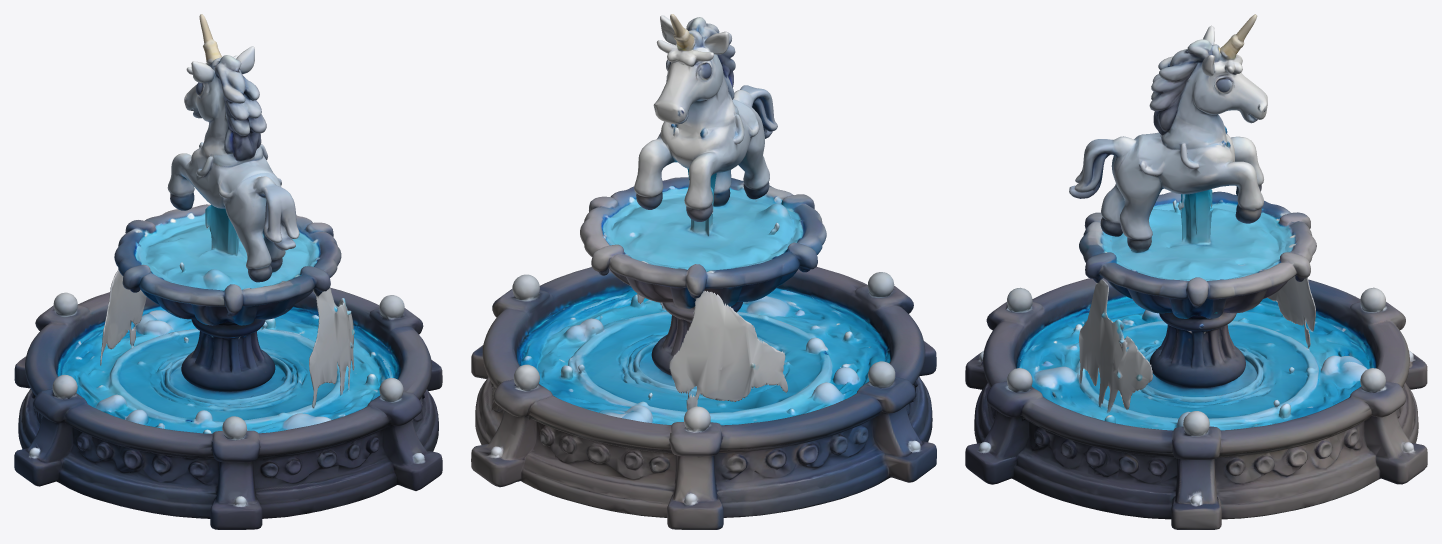
Rendered from plaza-fountain-unicorn.glb.
The picture shows the model from 3 angles, left to right: view 1: azimuth 30°, elevation 25°; view 2: azimuth 150°, elevation 25°; view 3: azimuth 270°, elevation 25°; orthographic projection. The views are drawn at different scales.
Parts seen in each view (by area): view 1: tripo_node_0f9dcf04-b8aa-48aa-a227-965a66d7fb43; view 2: tripo_node_0f9dcf04-b8aa-48aa-a227-965a66d7fb43; view 3: tripo_node_0f9dcf04-b8aa-48aa-a227-965a66d7fb43.
Boxes of the visible parts, x1,y1,x2,y2 form: tripo_node_0f9dcf04-b8aa-48aa-a227-965a66d7fb43: (14,14,442,529); tripo_node_0f9dcf04-b8aa-48aa-a227-965a66d7fb43: (471,14,936,529); tripo_node_0f9dcf04-b8aa-48aa-a227-965a66d7fb43: (965,14,1427,529).
Bounding box in the file's own units: 5.35 × 5 × 5.
1 material, 1 textured.
